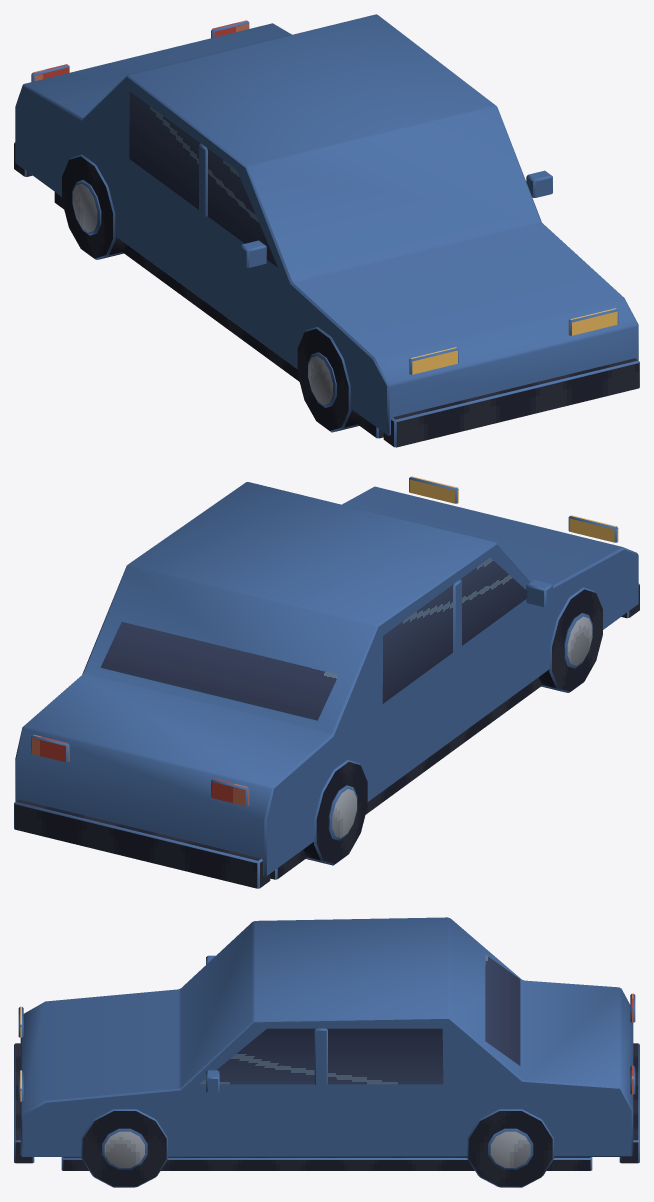
File: car_1.glb
3 views of the same model, one above another, from view 1: azimuth 30°, elevation 25°; view 2: azimuth 150°, elevation 25°; view 3: azimuth 270°, elevation 25° (orthographic). The views are drawn at different scales.
Parts seen in each view (by area): view 1: car_2; view 2: car_2; view 3: car_2.
Part boxes in pixels (x1,y1,x2,y2): car_2: (14,14,639,447); car_2: (14,476,639,888); car_2: (14,917,639,1187).
Bounding box in the file's own units: 2.13 × 1.38 × 4.6.
Materials: 6 (6 with a texture image).
